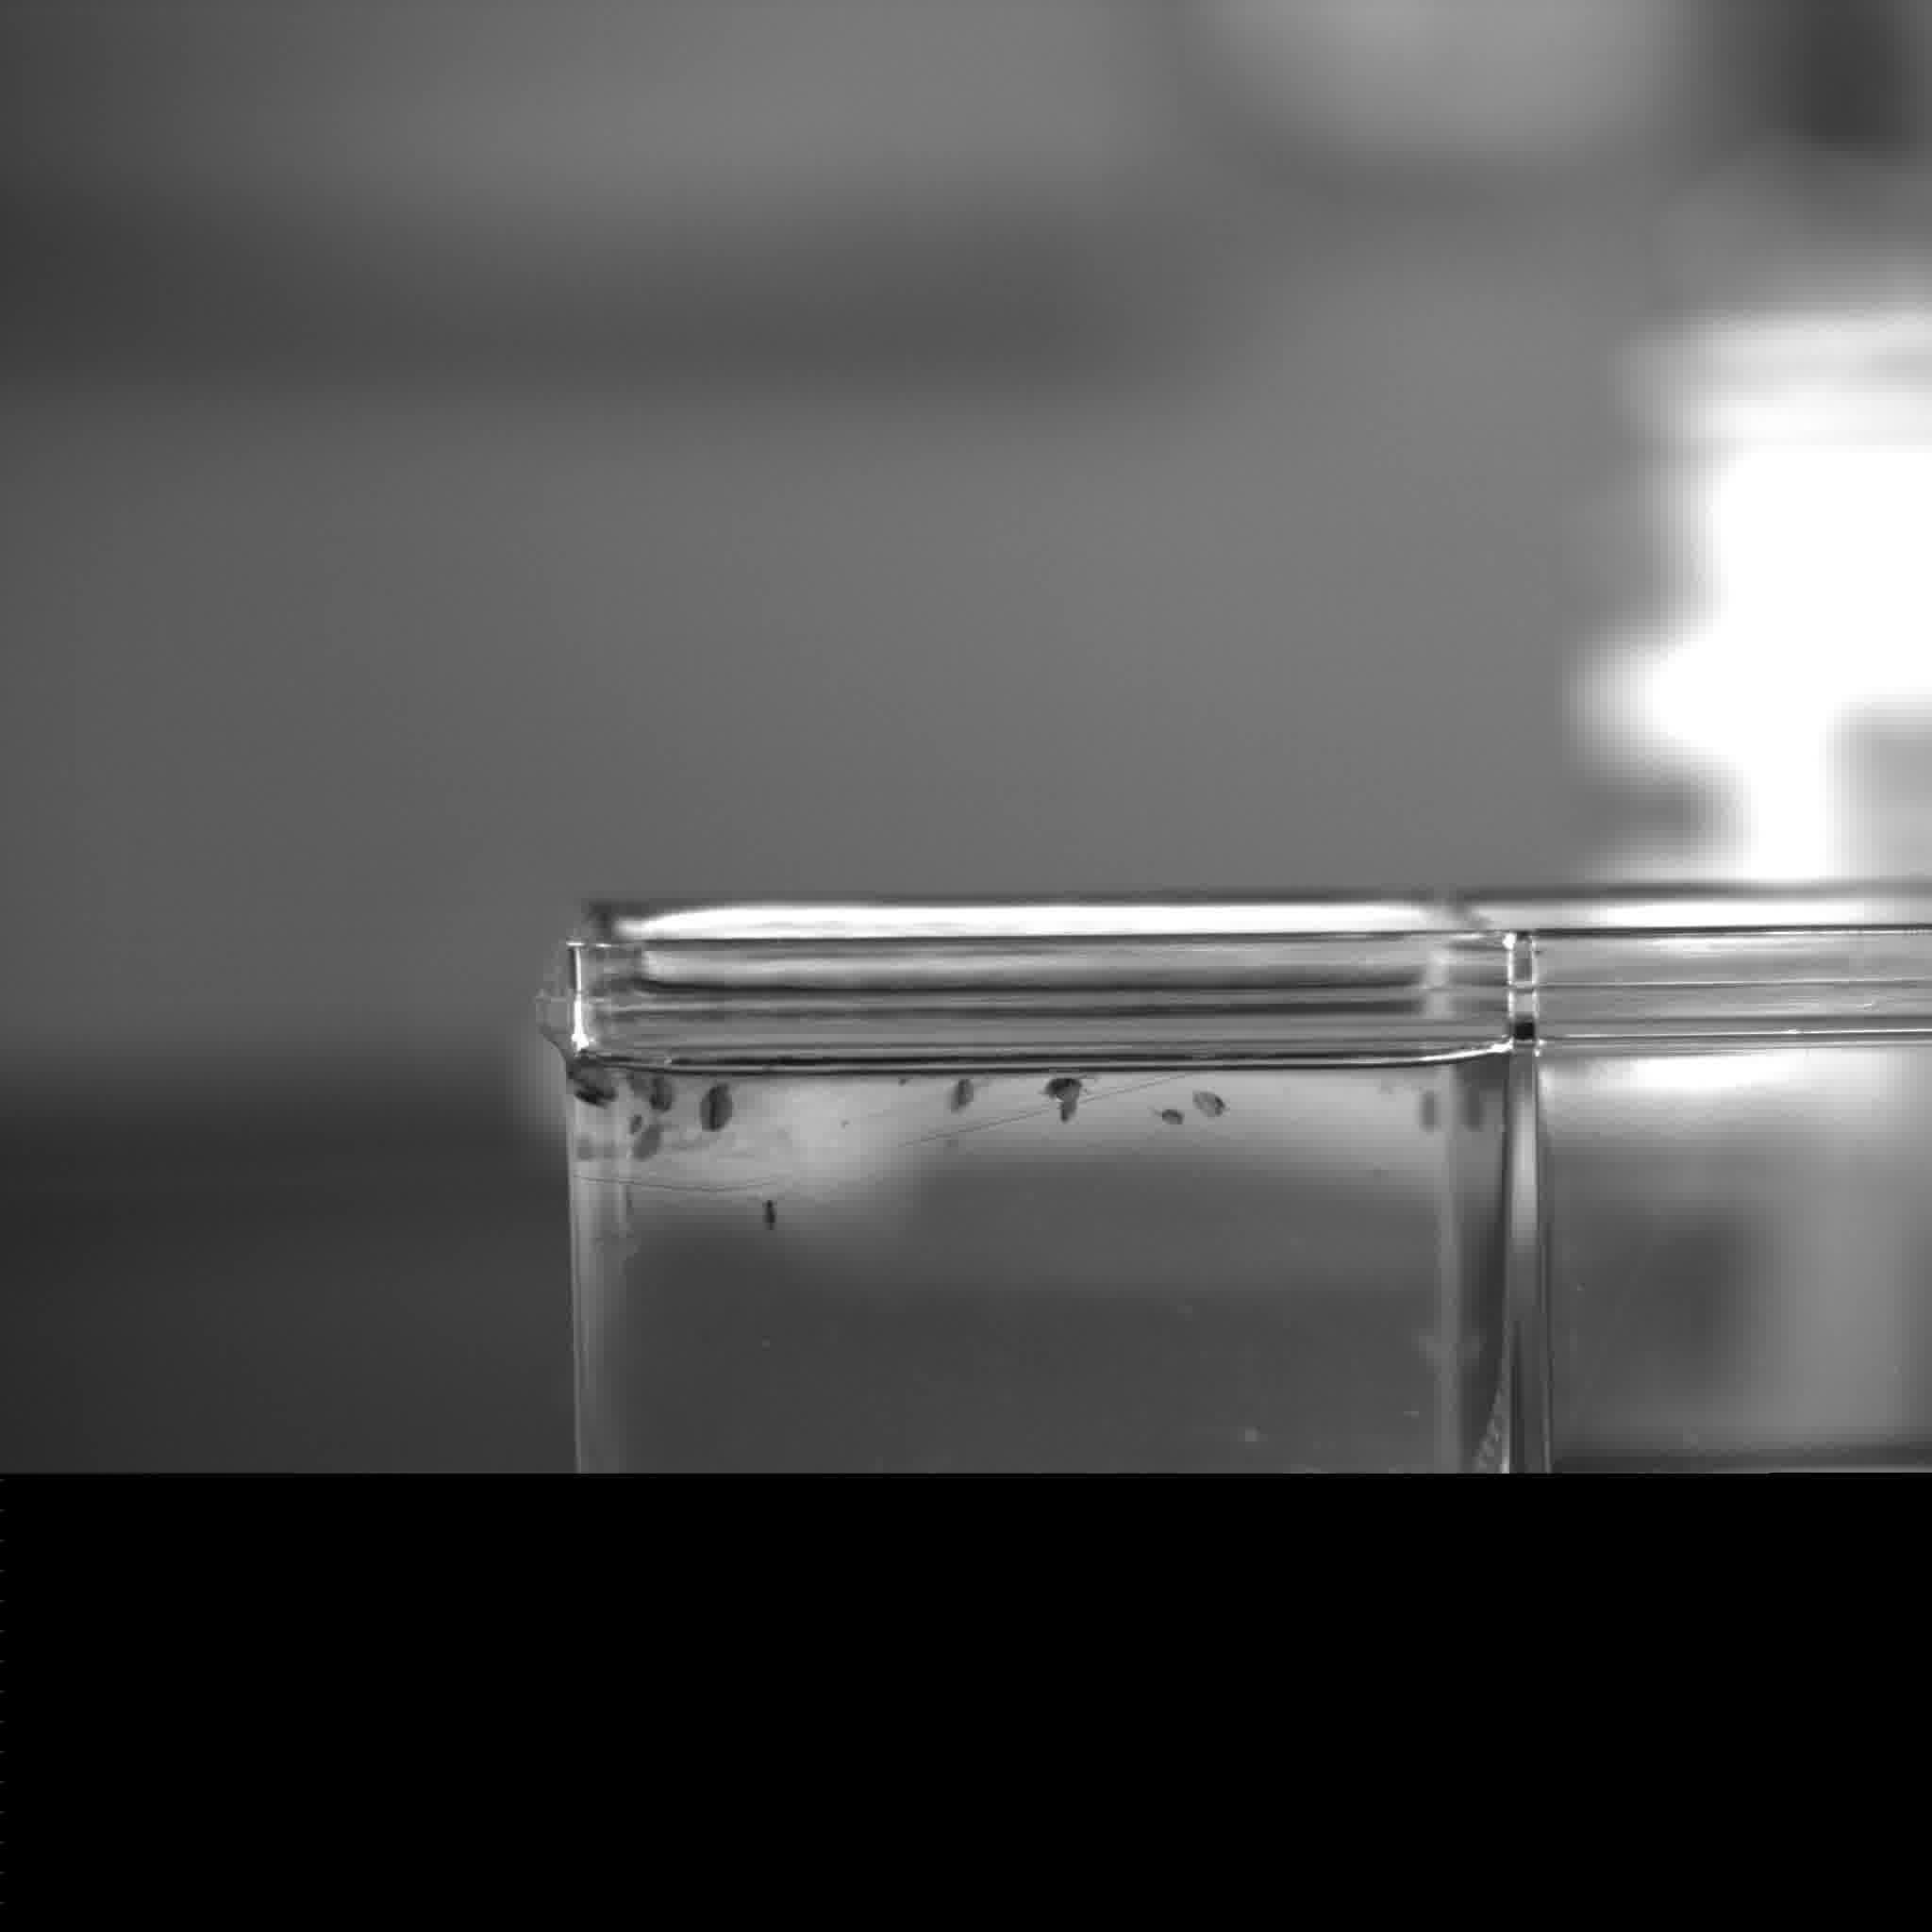Daphnia: (630, 1115, 676, 1162), (637, 1067, 676, 1120), (1187, 1076, 1233, 1116), (701, 1085, 734, 1138), (1039, 1072, 1099, 1099), (1062, 1070, 1090, 1122), (752, 1189, 789, 1226), (1417, 1081, 1438, 1138), (950, 1076, 984, 1111), (1155, 1104, 1191, 1129), (623, 1072, 649, 1102), (628, 1116, 642, 1134)
